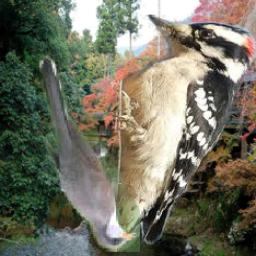Cuckoo: (37, 53, 141, 252)
Woodpecker: (106, 16, 256, 253)
